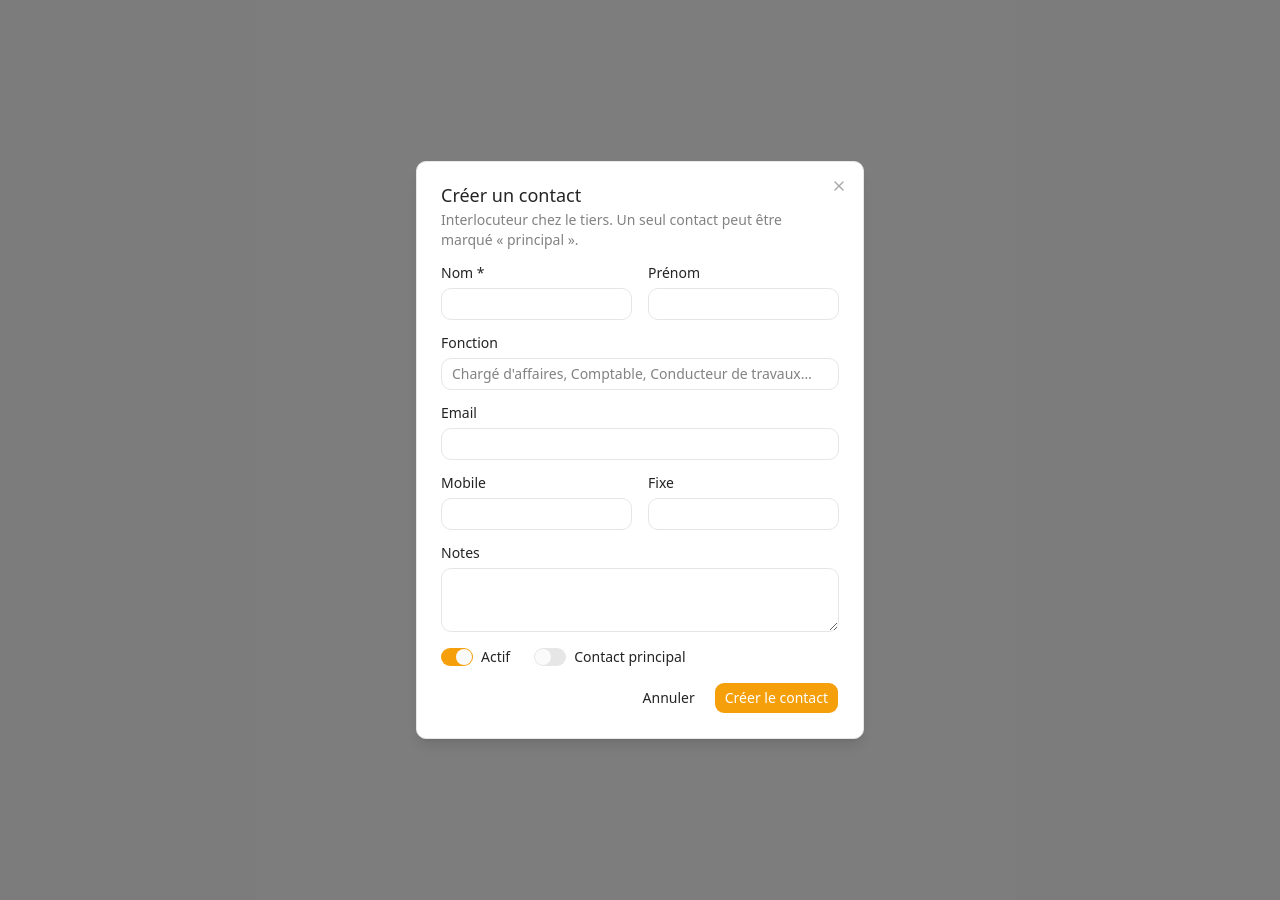
it: ContactDialog › refuse la soumission quand le nom est vide
Click the button "Créer le contact". click: (776, 698)
box: [714,682,839,714]
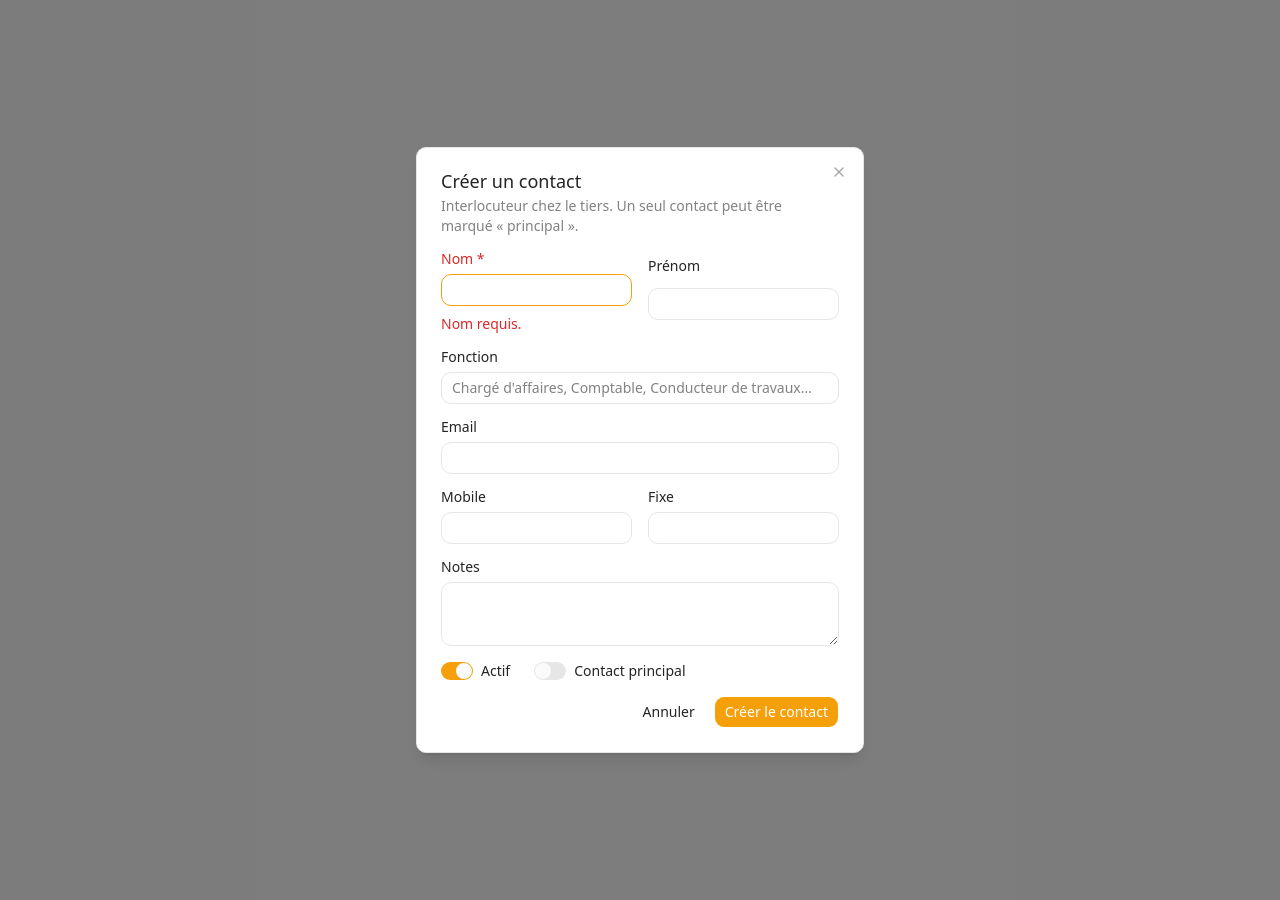
Expected: the text "Nom requis." is shown, [441,314,522,333]
